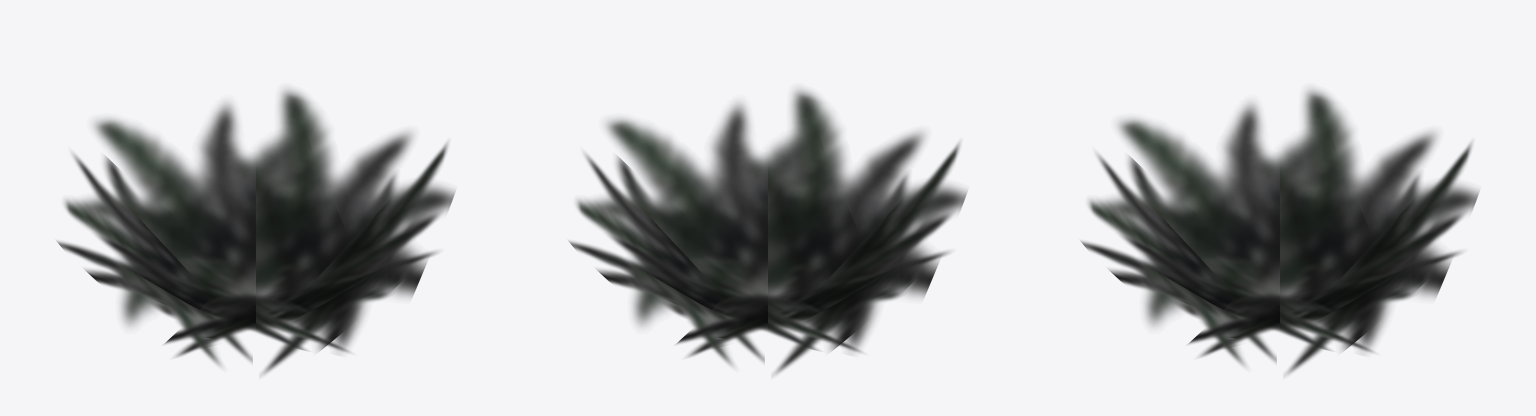
File: duong-xi.glb
3 views of the same model, side by side, from view 1: azimuth 30°, elevation 25°; view 2: azimuth 150°, elevation 25°; view 3: azimuth 270°, elevation 25° (orthographic).
Visible parts, largest first — view 1: frond0; view 2: frond0; view 3: frond0.
Boxes of the visible parts, <box> form: frond0: <box>57,88,455,374</box>; frond0: <box>569,88,967,374</box>; frond0: <box>1081,88,1479,374</box>.
Size of the model in its own units: 1.01 by 0.4348 by 0.9029.
Materials: 1 (1 with a texture image).
